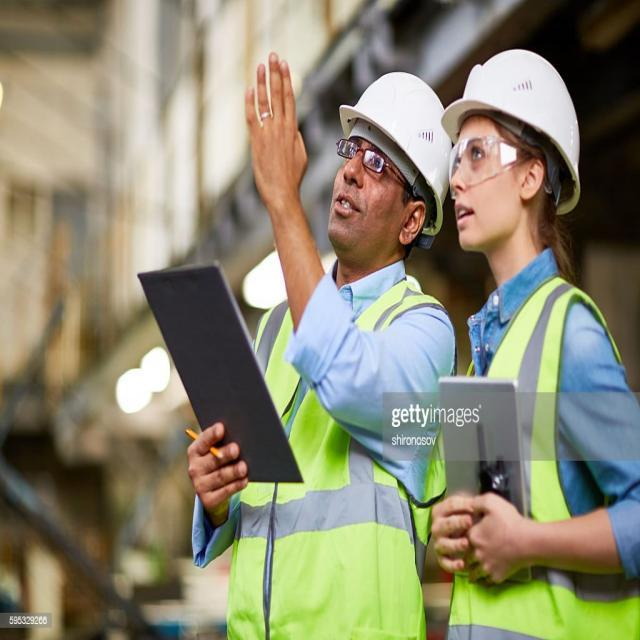reflective_jacket: (219, 274, 433, 636), (440, 274, 638, 636)
safety_helmet: (441, 43, 586, 202), (334, 65, 453, 236)
